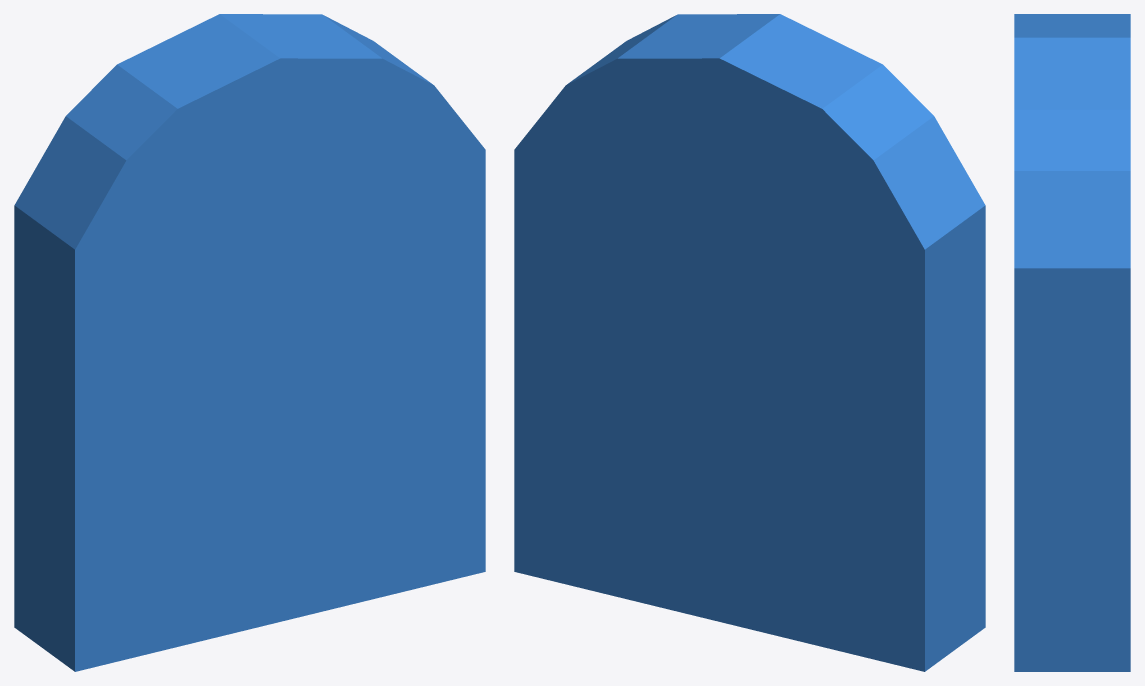
Rendered from Collision_Window_Wide_Round2.fbx.
3 renders of one model, left to right at view 1: azimuth 30°, elevation 25°; view 2: azimuth 150°, elevation 25°; view 3: azimuth 270°, elevation 25°, orthographic. The views are drawn at different scales.
Parts seen in each view (by area): view 1: UCX_Window_Wide_Round2_1; view 2: UCX_Window_Wide_Round2_1; view 3: UCX_Window_Wide_Round2_1.
Part boxes in pixels (left/top/right/bottom): UCX_Window_Wide_Round2_1: left=14, top=14, right=485, bottom=671; UCX_Window_Wide_Round2_1: left=514, top=14, right=985, bottom=671; UCX_Window_Wide_Round2_1: left=1014, top=14, right=1130, bottom=671.
Bounding box in the file's own units: 134 × 176 × 34.41.
